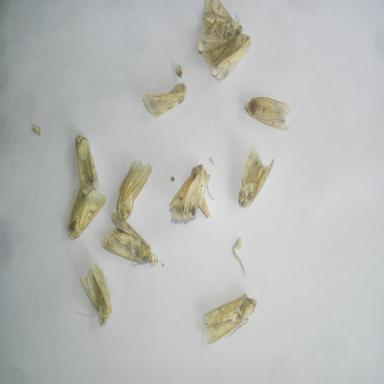abw: (200, 290, 260, 349), (198, 27, 256, 86), (166, 161, 218, 225), (192, 0, 250, 57), (100, 217, 159, 272), (62, 181, 110, 247), (235, 142, 278, 212), (114, 153, 155, 223), (76, 259, 115, 331), (70, 129, 106, 199), (138, 78, 190, 125), (242, 92, 294, 134)
